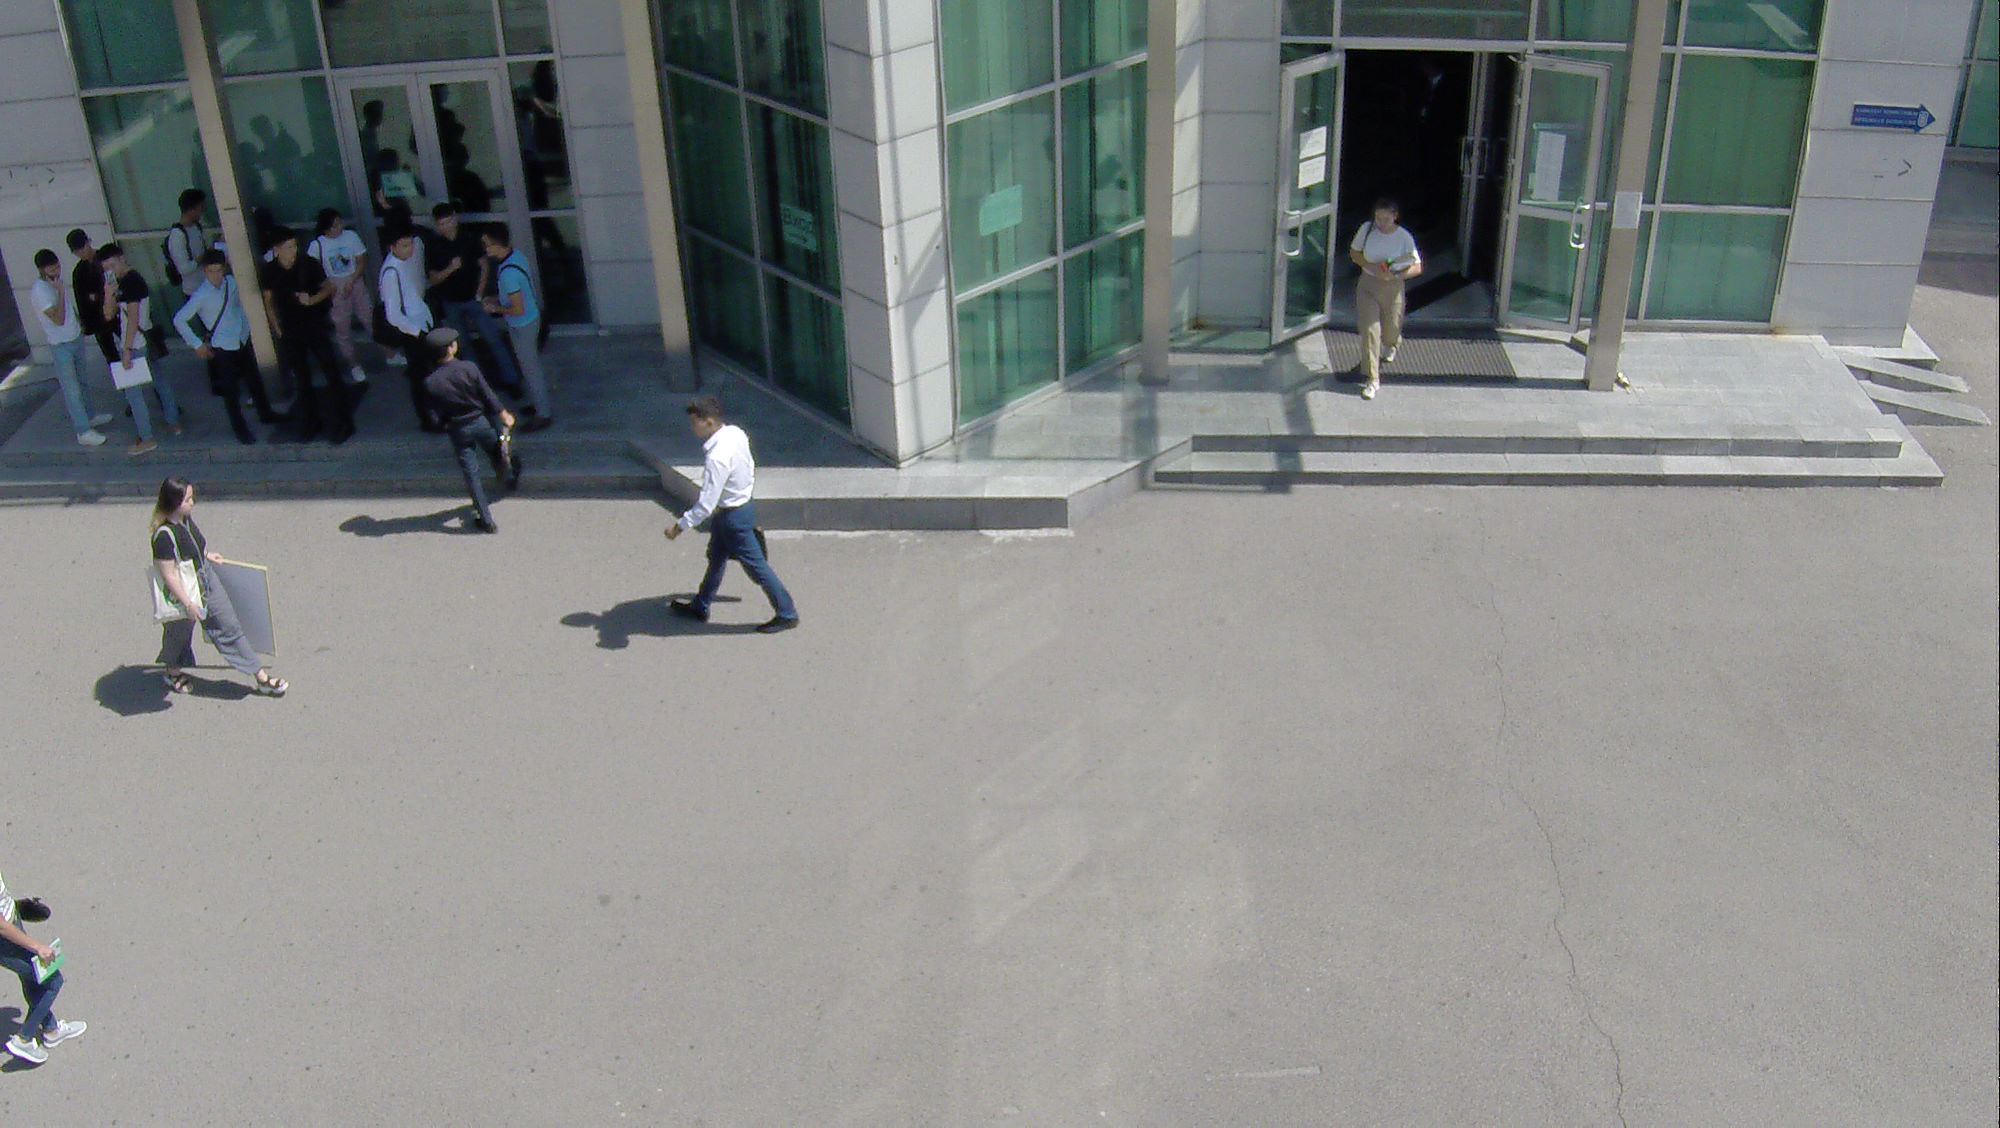person: (130, 474, 287, 716), (655, 387, 795, 641), (261, 226, 363, 441), (416, 333, 520, 537), (1339, 191, 1432, 418), (93, 241, 186, 452), (477, 219, 556, 439), (22, 248, 103, 458), (189, 249, 274, 445), (309, 202, 391, 390), (378, 224, 444, 426), (421, 197, 482, 322), (159, 185, 216, 287), (65, 216, 105, 316)
